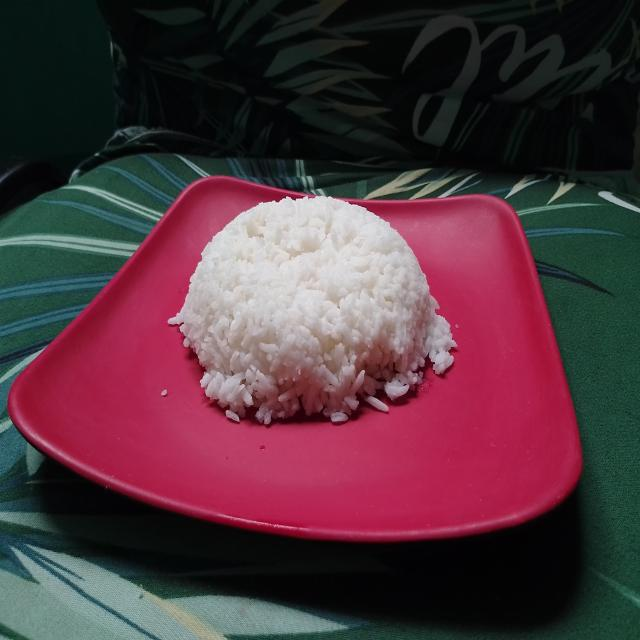Chicken -Chicken Inasal-: (171, 192, 461, 446)
